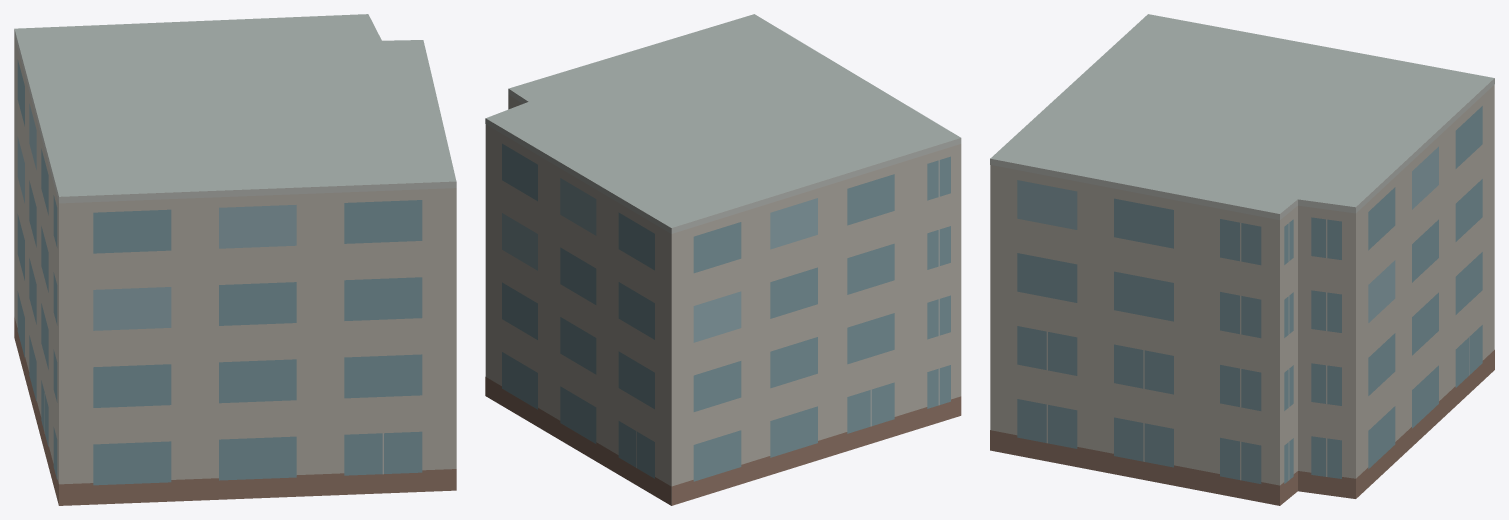
File: survey-upis-32541978.glb
3 views of the same model, side by side, from view 1: azimuth 30°, elevation 25°; view 2: azimuth 150°, elevation 25°; view 3: azimuth 270°, elevation 25° (orthographic). The views are drawn at different scales.
Parts seen in each view (by area): view 1: survey-upis-32541978.tmp; view 2: survey-upis-32541978.tmp; view 3: survey-upis-32541978.tmp.
Part boxes in pixels (bbox=[...]): survey-upis-32541978.tmp: bbox=[14, 14, 456, 505]; survey-upis-32541978.tmp: bbox=[485, 14, 961, 505]; survey-upis-32541978.tmp: bbox=[990, 14, 1494, 505].
Size of the model in its own units: 16.92 by 11.5 by 18.03.
